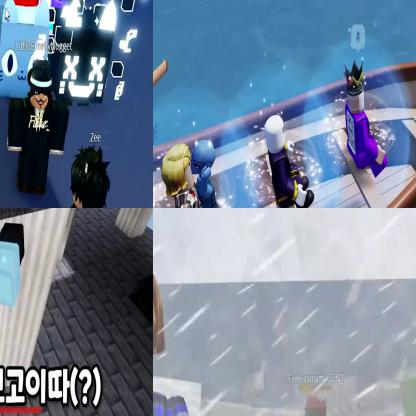Roblox-Avatar: (154, 259, 230, 416), (8, 61, 70, 196), (344, 60, 389, 179), (265, 115, 316, 208), (162, 144, 235, 208), (1, 209, 26, 377), (53, 144, 112, 208)
